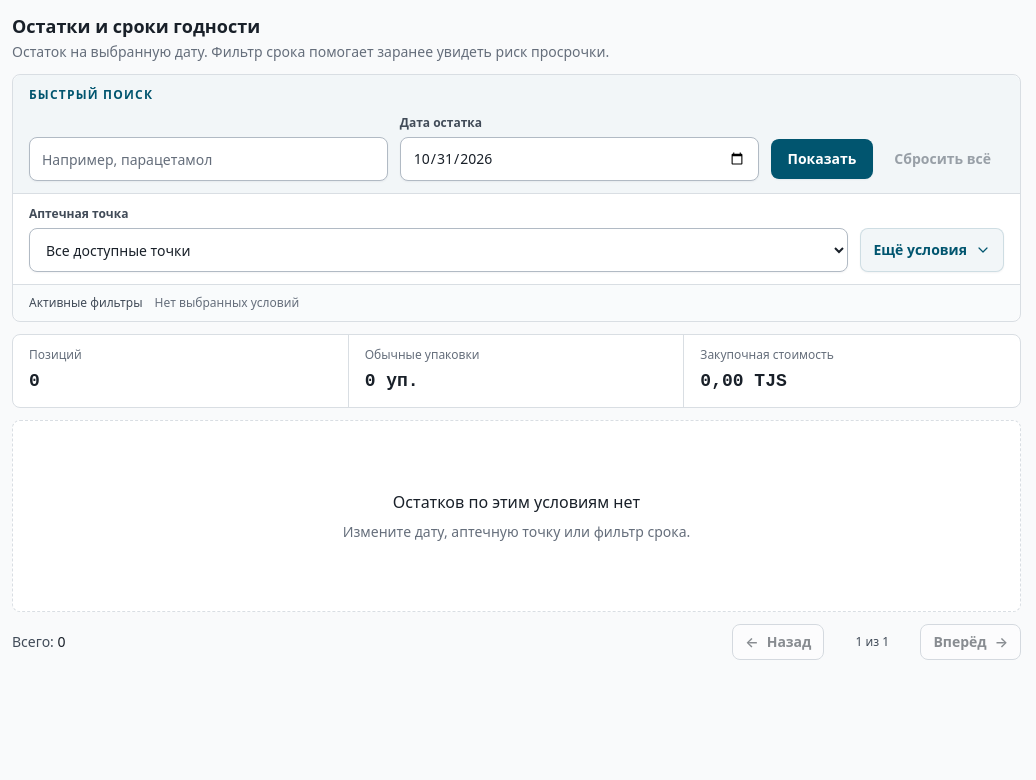
Test: StockOnDateCard › hides the previous stock totals while a different date is loading
This screenshot has width=1036, height=780.
Expected: the text "Остатков по этим условиям нет" is shown, x1=393 y1=490 x2=640 y2=514
Type "2026-05-30" into the date field labelled "Дата остатка" at (579, 159), box x1=400 y1=137 x2=759 y2=181
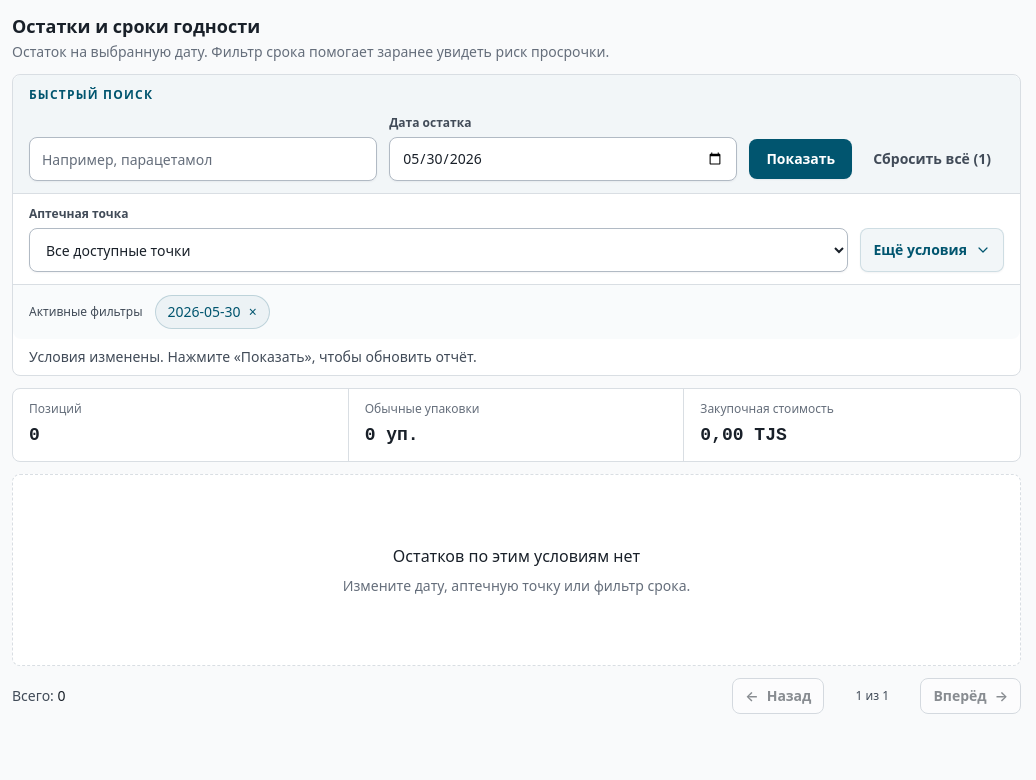
Click the button "Показать" at (801, 159), box x1=749 y1=139 x2=852 y2=179
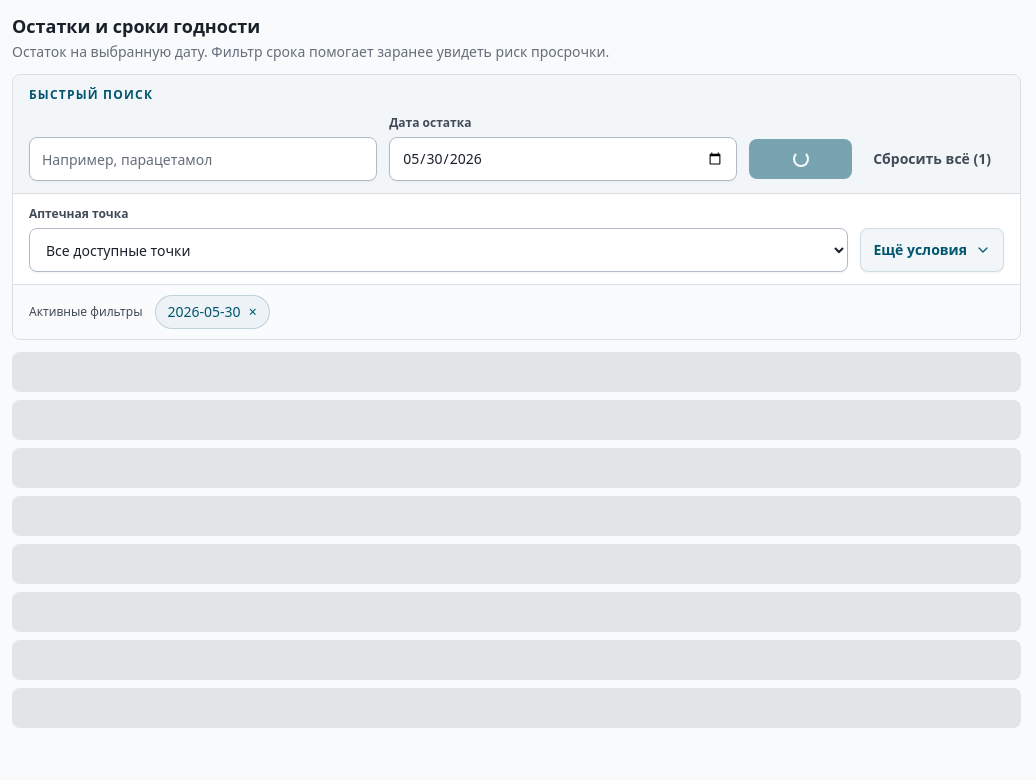
Now the text "Остатков по этим условиям нет" is gone
Now the text "Закупочная стоимость" is gone
